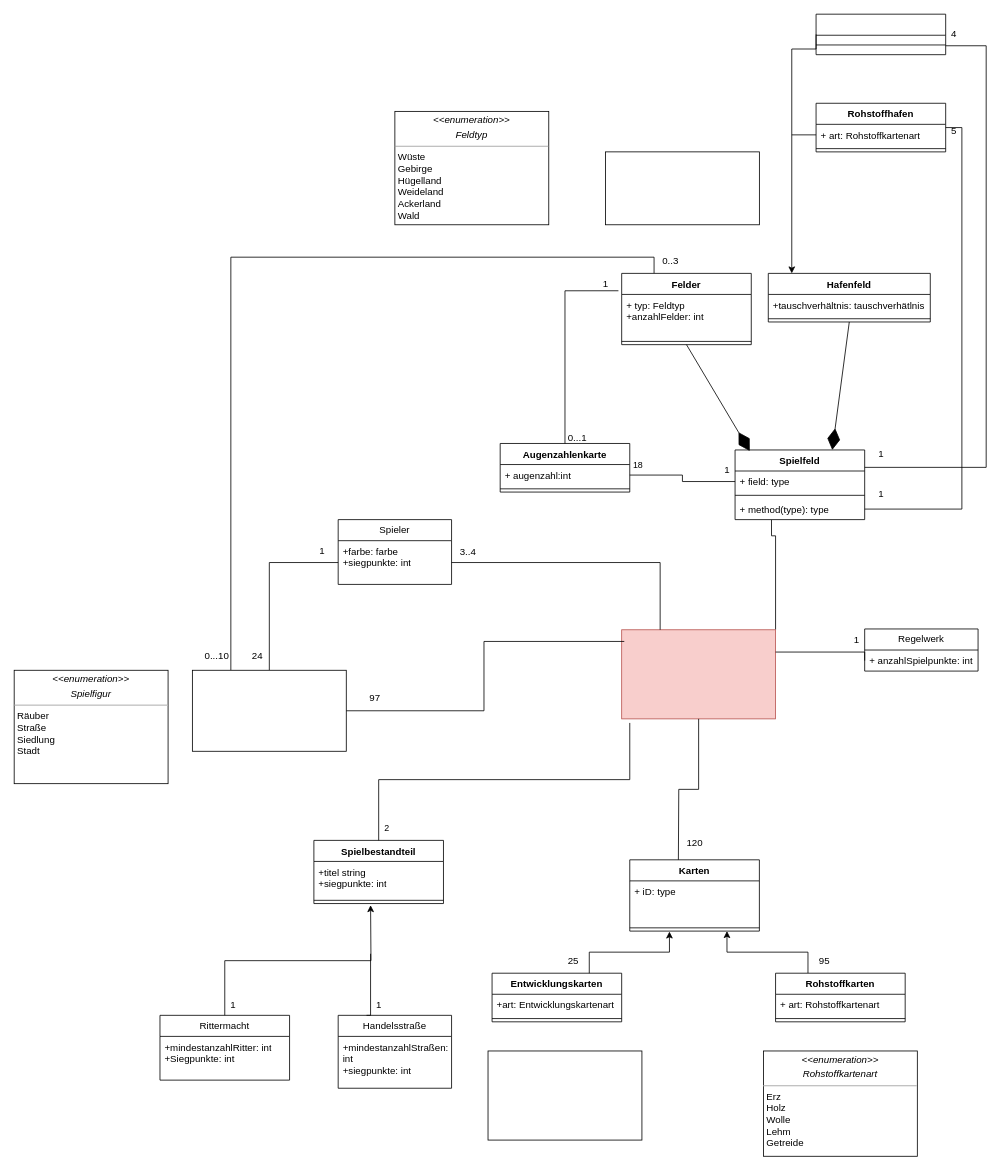
This 1001x1170 diagram has some shape labels left out. The centre of each missing label's shape, as x and y in pixels:
"<<enumeration>> Entwicklungskartenart Fortschritt Siegpunkt Ritterkarte" goes at (x=564, y=1095).
"<<enumeration>> tauschverhältnis 3:1 2:1" goes at (x=682, y=188).
"<<Spiel>> Sieder von Catan + spielrunde: int" goes at (x=698, y=674).
"<<Spielfigur>> Spielfigur + farbe: string + Kosten: string + art: spielfigurart" goes at (x=269, y=710).
"Universalhafen" goes at (x=880, y=34).
